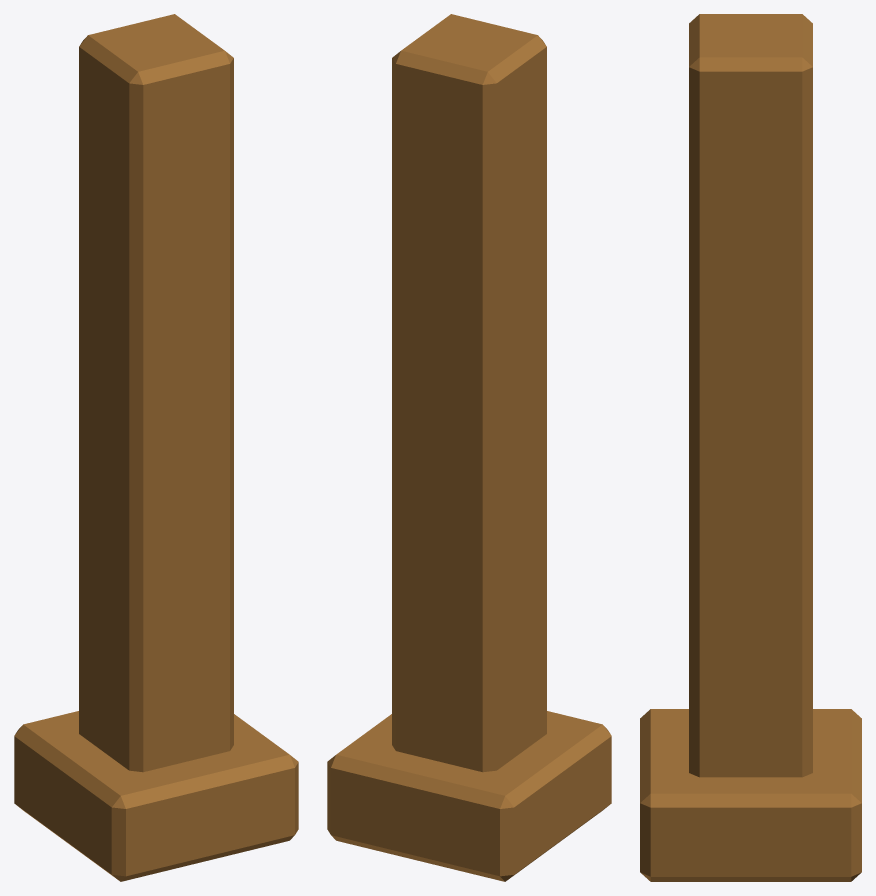
The model's file is SupportPost.fbx.
3 renders of one model, left to right at view 1: azimuth 30°, elevation 25°; view 2: azimuth 150°, elevation 25°; view 3: azimuth 270°, elevation 25°, orthographic. The views are drawn at different scales.
Visible parts, largest first — view 1: SupportPost_Export; view 2: SupportPost_Export; view 3: SupportPost_Export.
Boxes of the visible parts, x1,y1,x2,y2 form: SupportPost_Export: (14,14,298,881); SupportPost_Export: (327,14,611,881); SupportPost_Export: (640,14,861,881).
Size of the model in its own units: 0.25 by 1 by 0.25.
